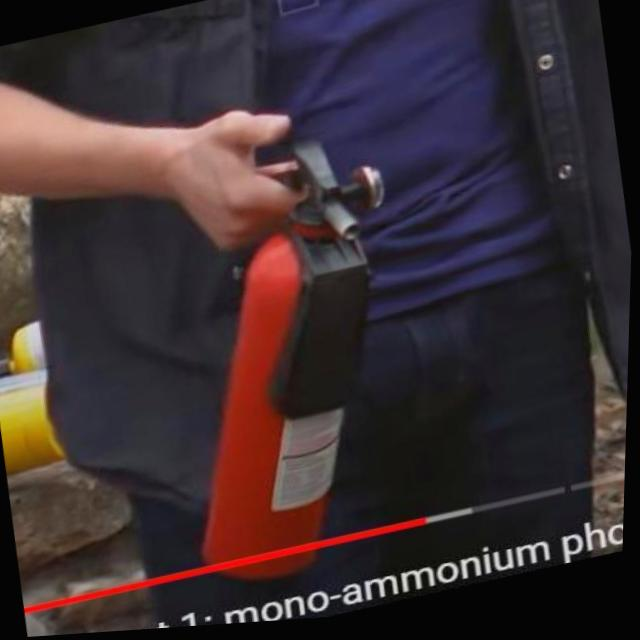FireExtinguisher: (135, 118, 450, 603)
